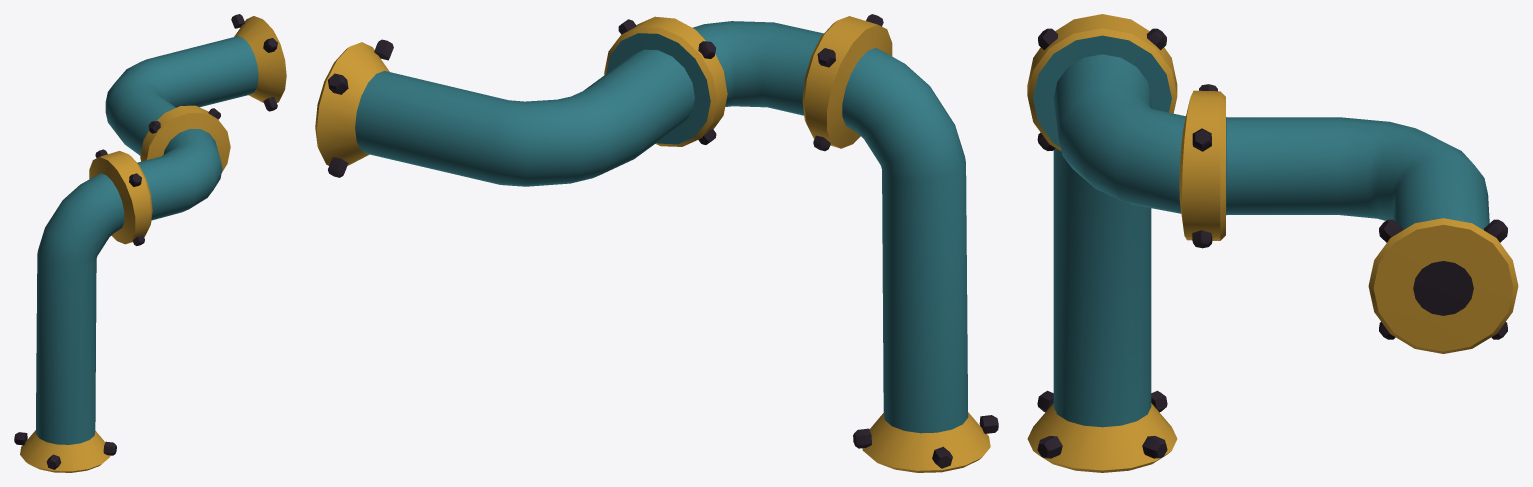
File: PipeRun_23.glb
3 renders of one model, left to right at view 1: azimuth 30°, elevation 25°; view 2: azimuth 150°, elevation 25°; view 3: azimuth 270°, elevation 25°, orthographic. The views are drawn at different scales.
Visible parts, largest first — view 1: PipeRun_23; view 2: PipeRun_23; view 3: PipeRun_23.
Boxes of the visible parts, x1=… form: PipeRun_23: x1=14, y1=14, x2=286, y2=472; PipeRun_23: x1=315, y1=14, x2=998, y2=472; PipeRun_23: x1=1027, y1=14, x2=1518, y2=472.
Bounding box in the file's own units: 4.72 × 3.74 × 3.58.
